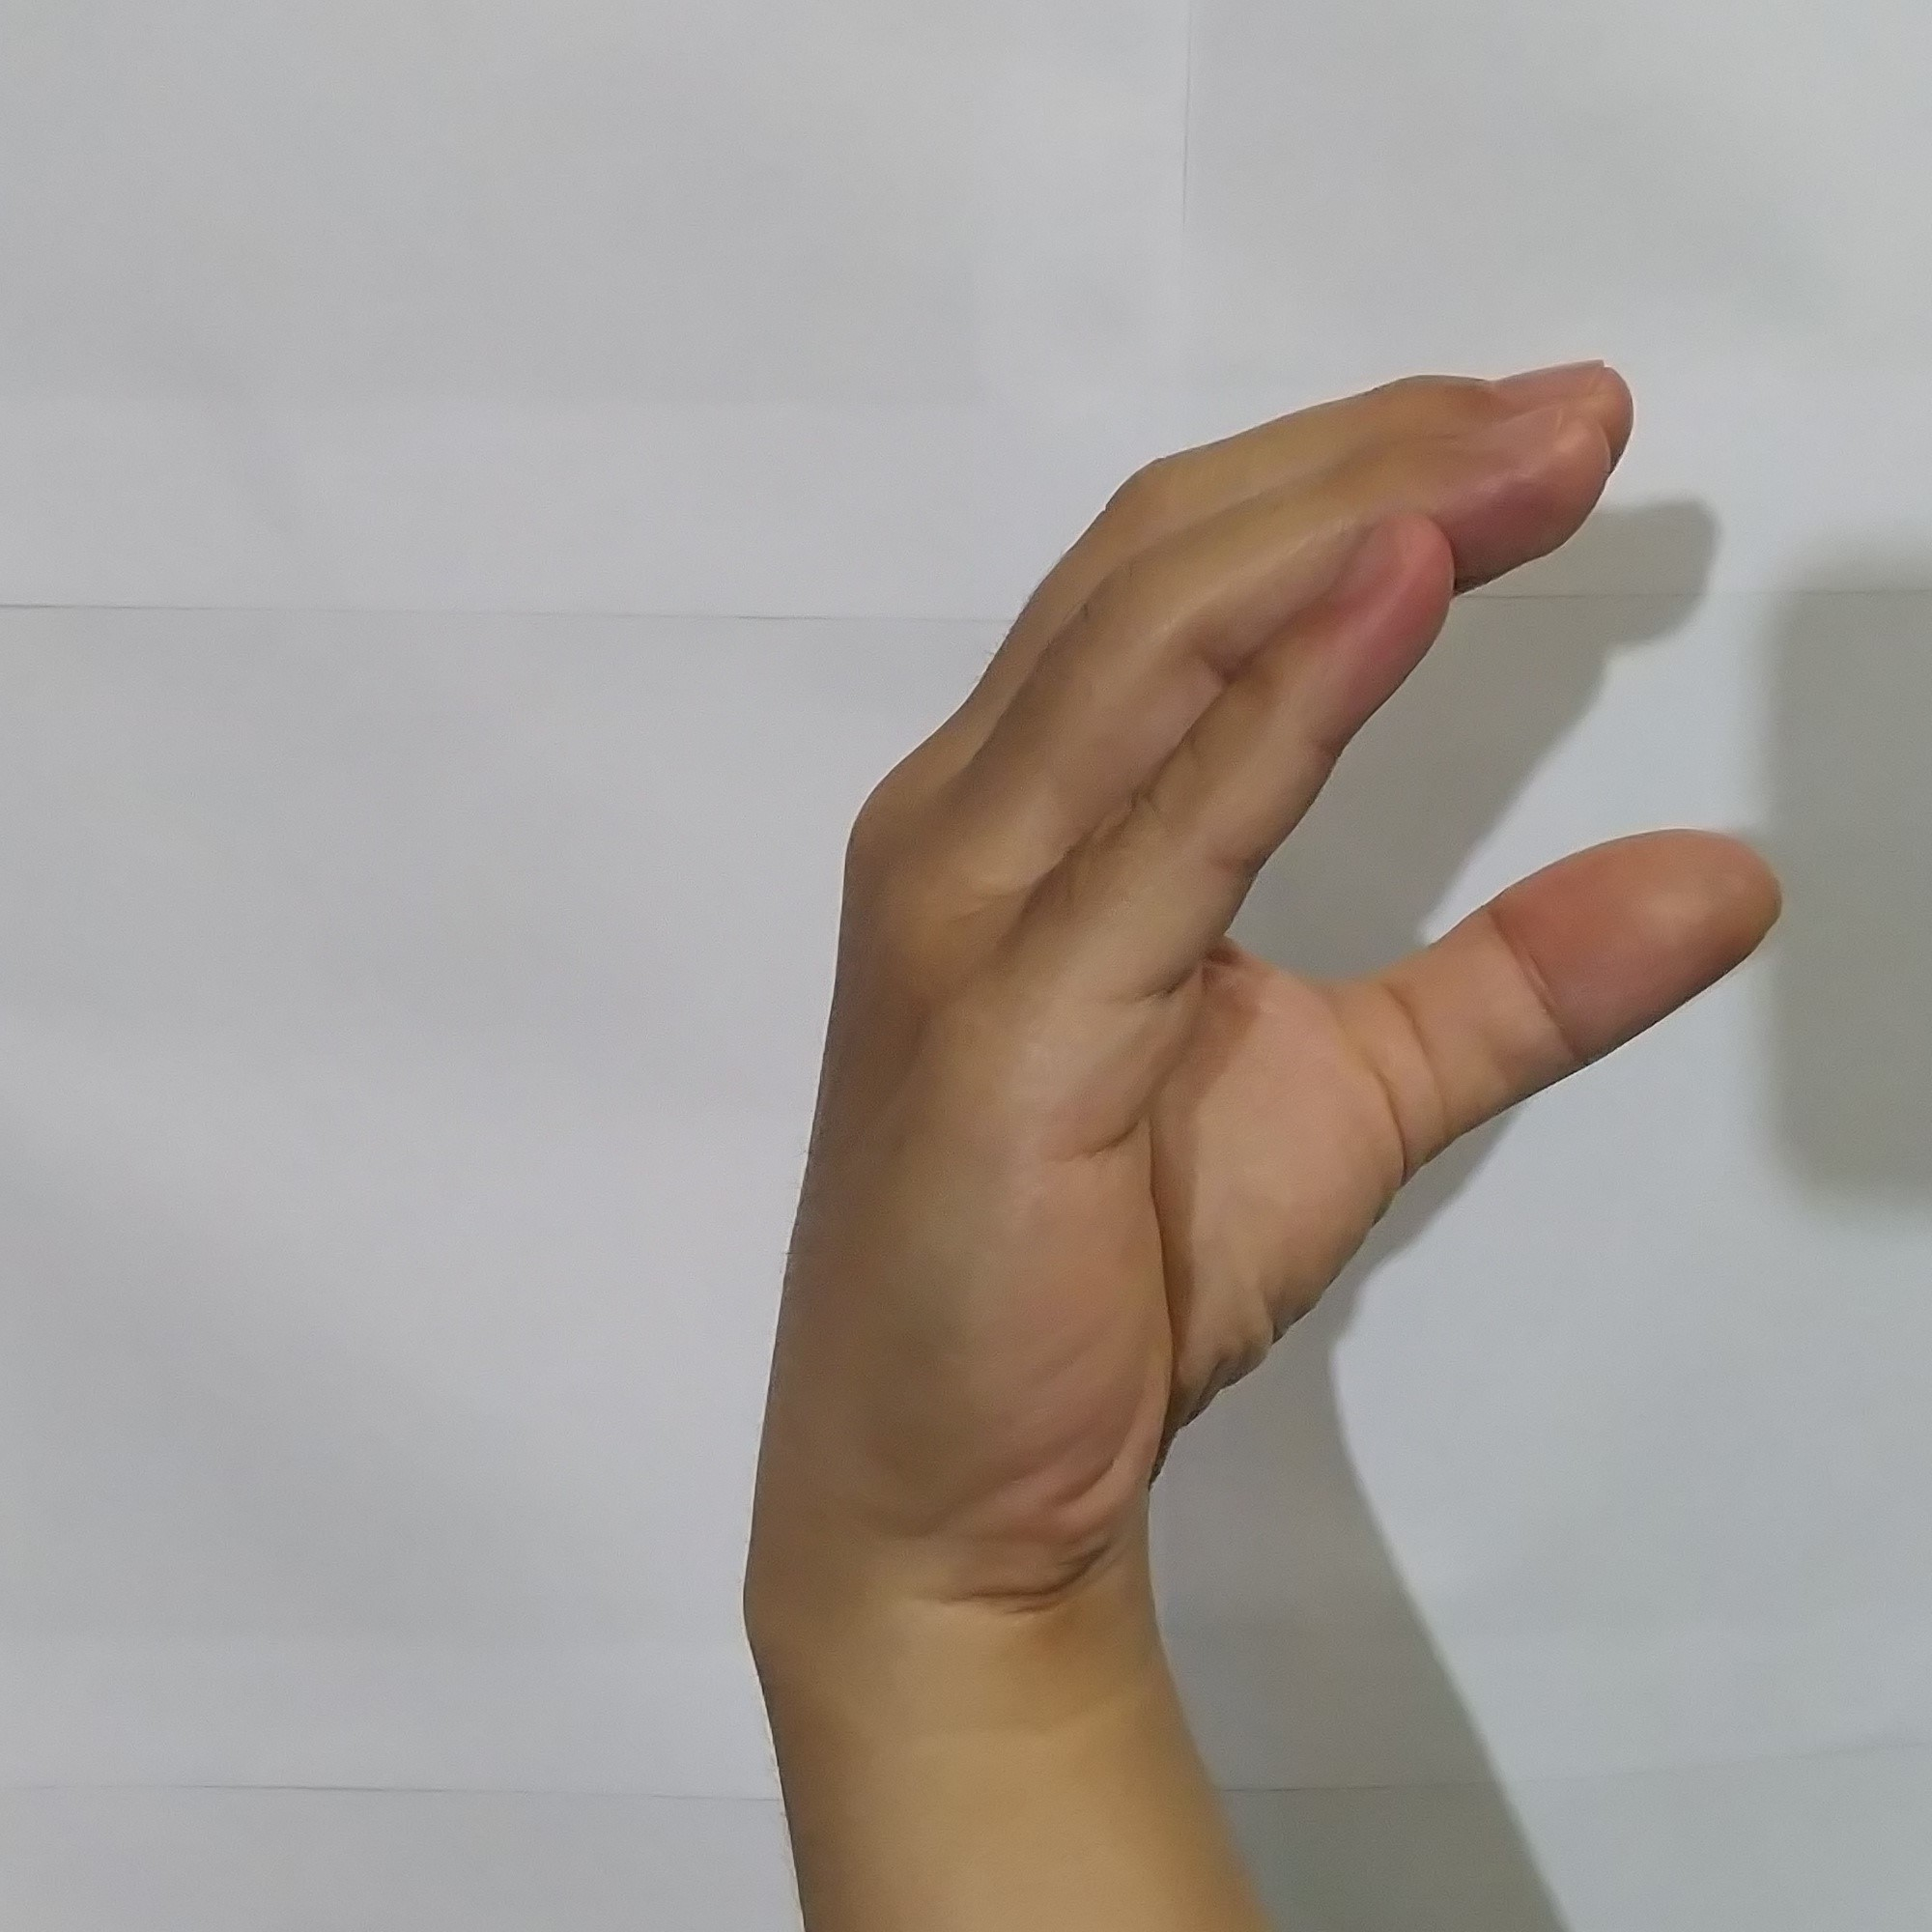C: (741, 331, 1808, 1559)
